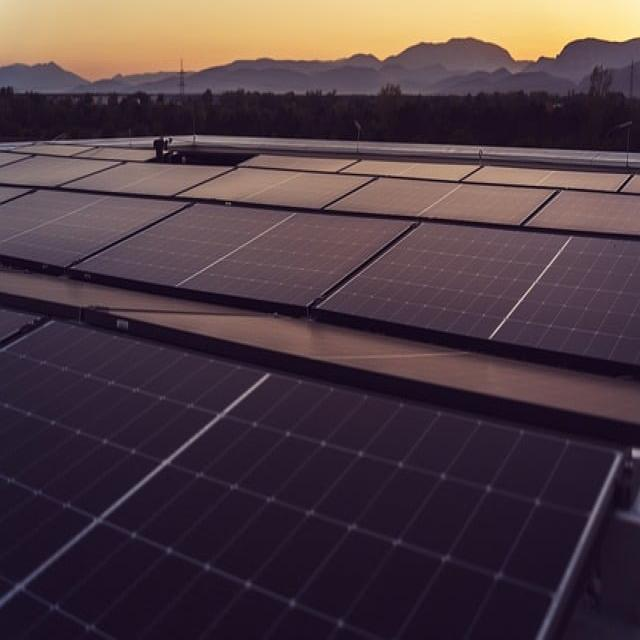clean-solar-panel: (1, 319, 618, 637), (500, 238, 640, 369)
